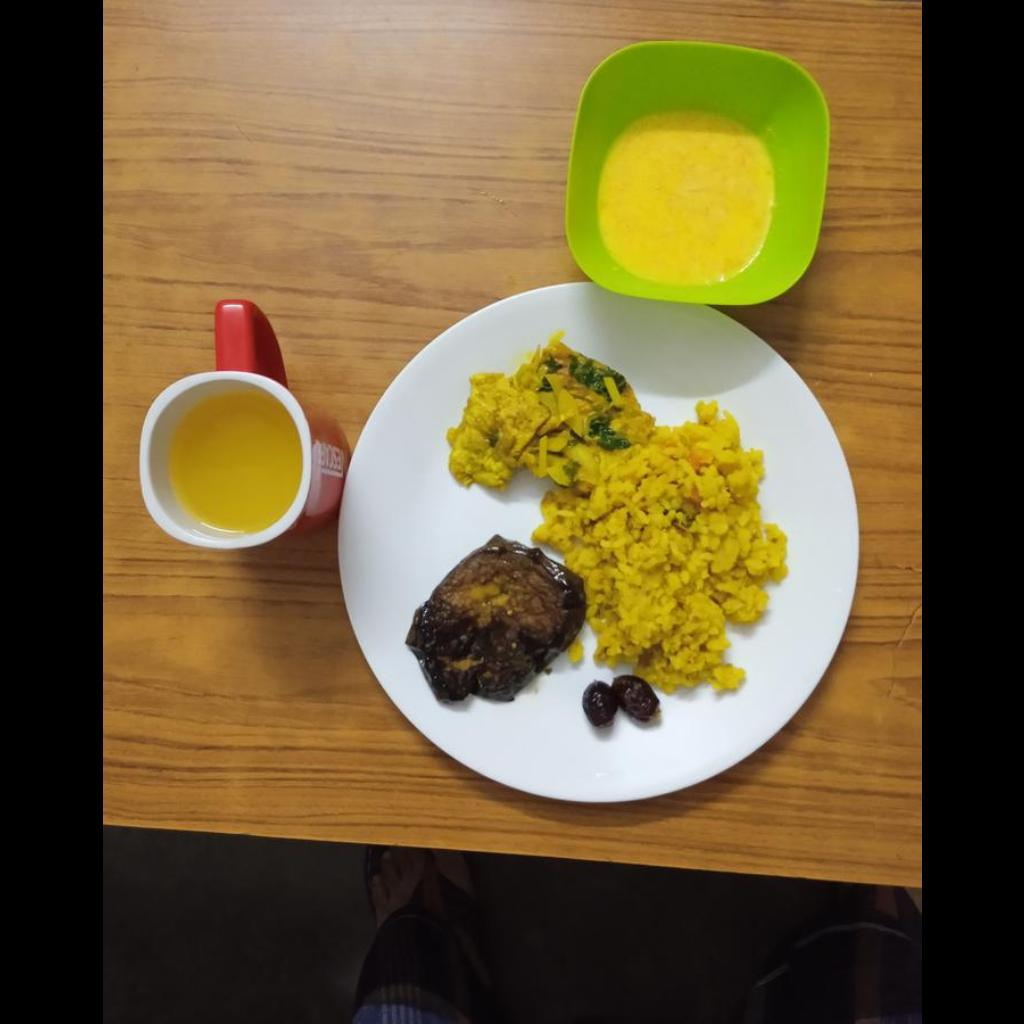begun-vaji: (406, 536, 584, 702)
dates: (582, 675, 658, 728)
juice: (597, 117, 773, 286), (167, 388, 301, 534)
khichuri: (533, 403, 786, 693)
vegetable: (448, 336, 652, 489)
